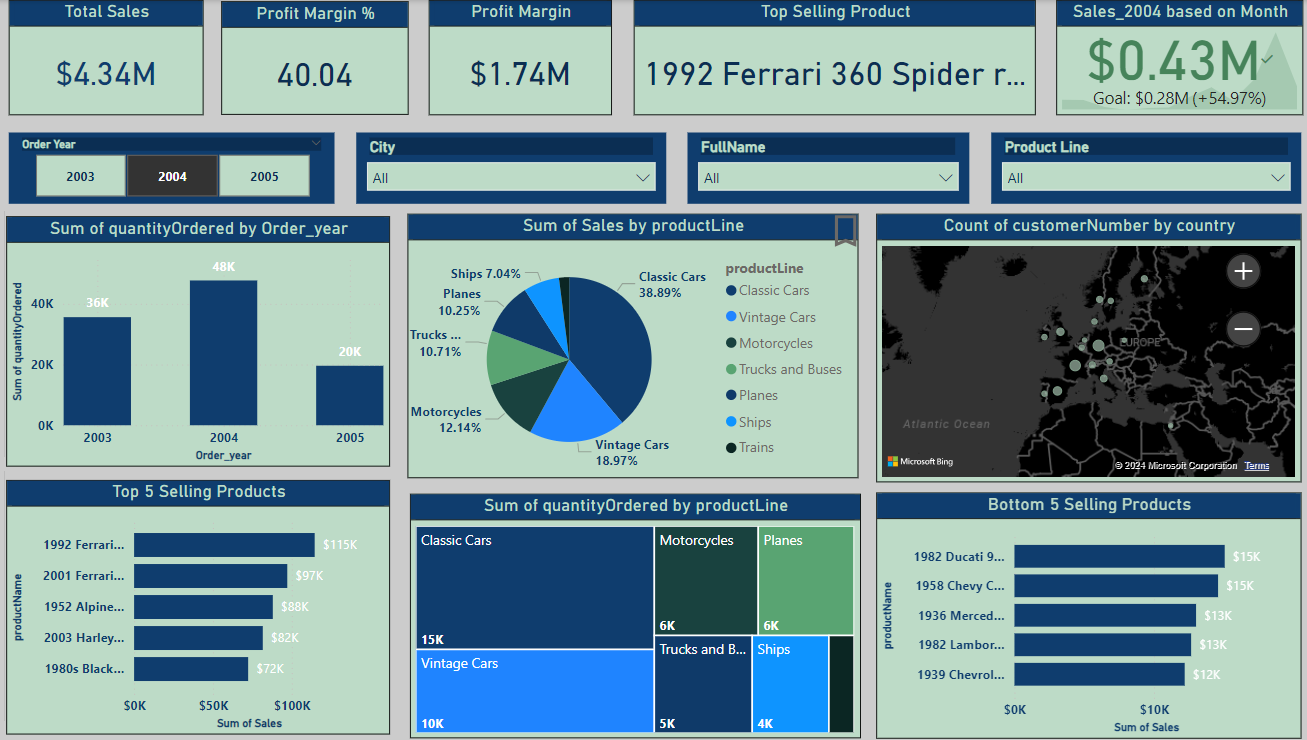

What the dashboard file says about the page in this screenshot:
{"tool":"powerbi","page":{"name":"Page 1","canvas":[1280,720],"ordinal":0},"visuals":[{"type":"card","title":"Profit Margin","fields":{"Values":["Order_details.total_profit"]},"box":[424,0,177,111.1],"z":0},{"type":"barChart","title":"Top 5 Selling Products","fields":{"Category":["Products.productName"],"Y":["Order_details.Sales"]},"box":[15.1,463.8,370.5,245.6],"z":1000},{"type":"pieChart","fields":{"Category":["Products.productLine"],"Y":["Order_details.Sales"]},"box":[403.4,205.8,435,255.2],"z":2000},{"type":"slicer","fields":{"Values":["Orders.Order_year"]},"box":[17.8,127.6,314.2,68.6],"z":3000},{"type":"card","title":"Top Selling Product","fields":{"Values":["Order_details.Most Ordered Product"]},"box":[621.6,0,388.3,111.1],"z":4000},{"type":"kpi","title":"Sales_2004 based on Month ","fields":{"Goal":["Orders.Sales_2003"],"TrendLine":["Orders.Month Name"],"Indicator":["Orders.Sales_2004"]},"box":[1029.2,0,238.8,111.1],"z":5000},{"type":"map","fields":{"Size":["Customers.customerNumber"],"Category":["Customers.country"]},"box":[854.9,205.8,410.3,259.3],"z":6000},{"type":"treemap","fields":{"Group":["Productlines.productLine"],"Values":["Order_details.quantityOrdered"]},"box":[404.8,476.2,435,236],"z":7000},{"type":"columnChart","fields":{"Category":["Orders.Order_year"],"Y":["Order_details.quantityOrdered"]},"box":[15.1,208.6,370.5,241.5],"z":8000},{"type":"card","title":"Profit Margin %","fields":{"Values":["Order_details.Profit_Margin_%"]},"box":[223.7,1.4,181.1,109.8],"z":9000},{"type":"card","title":"Total Sales","fields":{"Values":["Order_details.Sales"]},"box":[17.8,0,188,111.1],"z":10000},{"type":"slicer","fields":{"Values":["Offices.city"]},"box":[354,127.6,299.1,68.6],"z":11000},{"type":"slicer","fields":{"Values":["employee.FullName"]},"box":[673.8,127.6,271.7,68.6],"z":12000},{"type":"slicer","fields":{"Values":["Productlines.productLine"]},"box":[966,127.6,299.1,68.6],"z":13000},{"type":"barChart","title":"Bottom 5 Selling Products","fields":{"Category":["Products.productName"],"Y":["Order_details.Sales"]},"box":[854.9,474.8,410.3,237.4],"z":14000},{"type":"actionButton","box":[806.2,202.5,100,40],"z":15000}]}

Visuals, with their boxes in screenshot pixels (x1, y1, x2, y2), scaled from the page's 1280x720 canvas onto the 1307x740 screenshot:
"Profit Margin" card: 433:0:614:114
"Top 5 Selling Products" barChart: 15:477:394:729
pieChart - Products.productLine x Order_details.Sales: 412:212:856:474
slicer - Orders.Order_year: 18:131:339:202
"Top Selling Product" card: 635:0:1031:114
"Sales_2004 based on Month " kpi: 1051:0:1295:114
map - Customers.customerNumber x Customers.country: 873:212:1292:478
treemap - Productlines.productLine x Order_details.quantityOrdered: 413:489:858:732
columnChart - Orders.Order_year x Order_details.quantityOrdered: 15:214:394:463
"Profit Margin %" card: 228:1:413:114
"Total Sales" card: 18:0:210:114
slicer - Offices.city: 361:131:667:202
slicer - employee.FullName: 688:131:965:202
slicer - Productlines.productLine: 986:131:1292:202
"Bottom 5 Selling Products" barChart: 873:488:1292:732
actionButton: 823:208:925:249
